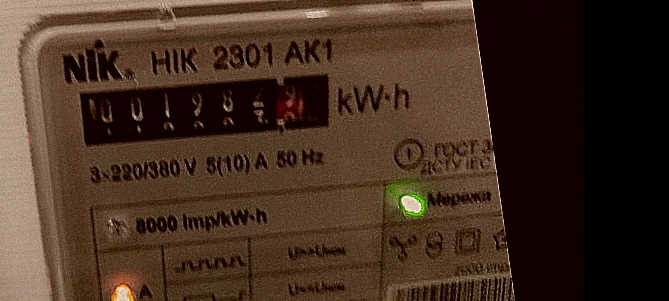0: (125, 92, 146, 123), (95, 93, 115, 124)
1: (157, 88, 173, 119)
2: (247, 78, 269, 109)
8: (217, 83, 237, 113)
9: (278, 79, 302, 109), (186, 87, 205, 117)
screen: (59, 41, 351, 176)
